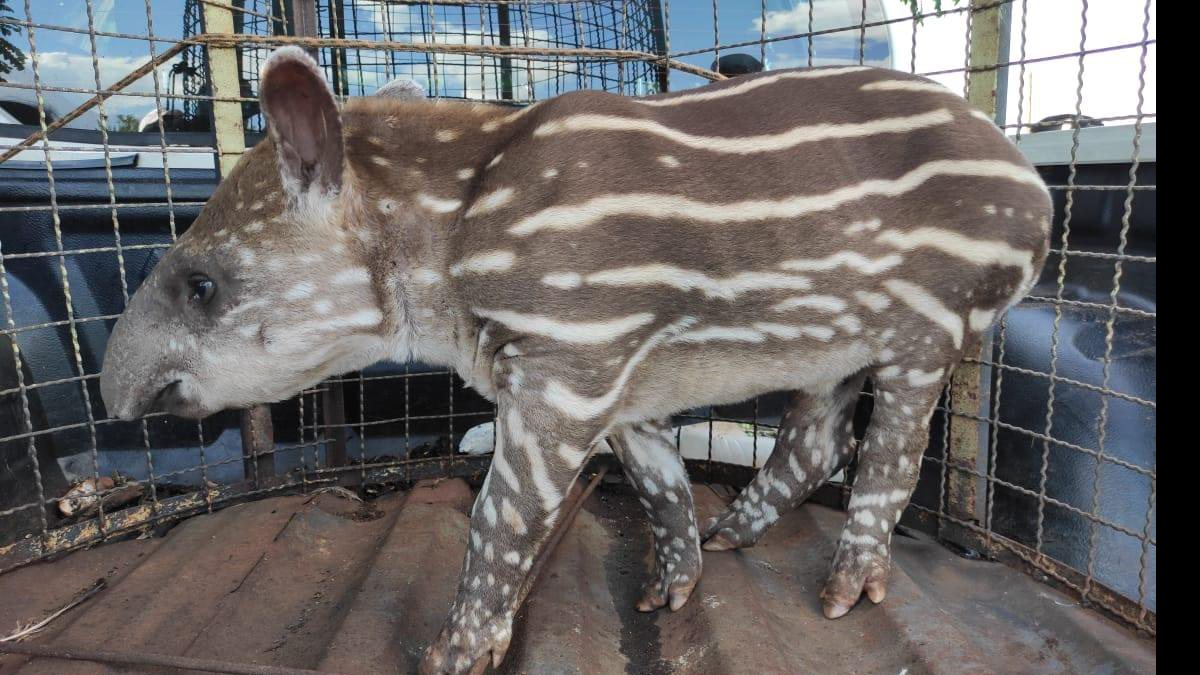Anta: (91, 40, 1068, 666)
